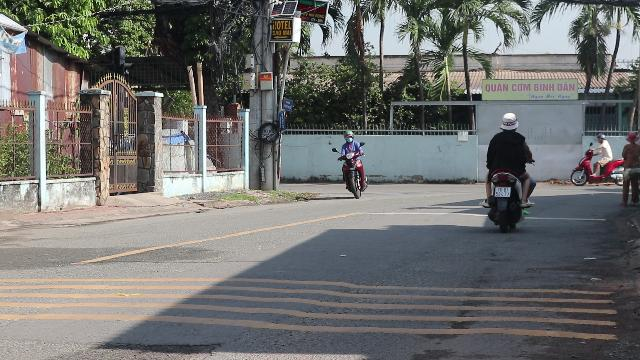motorcyclist: (480, 112, 536, 232)
nohelmet: (500, 112, 518, 132), (495, 187, 511, 197)
